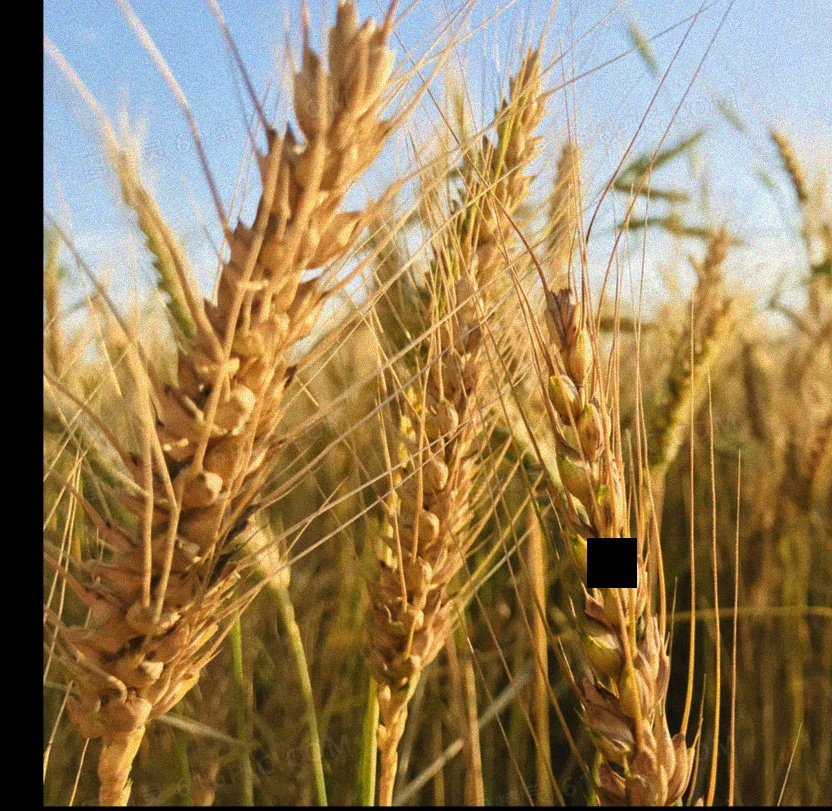wheat: (79, 26, 381, 753), (373, 108, 516, 724), (544, 306, 714, 805)
